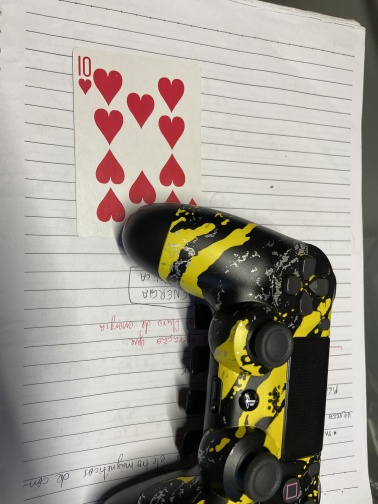ten: (70, 44, 203, 239)
